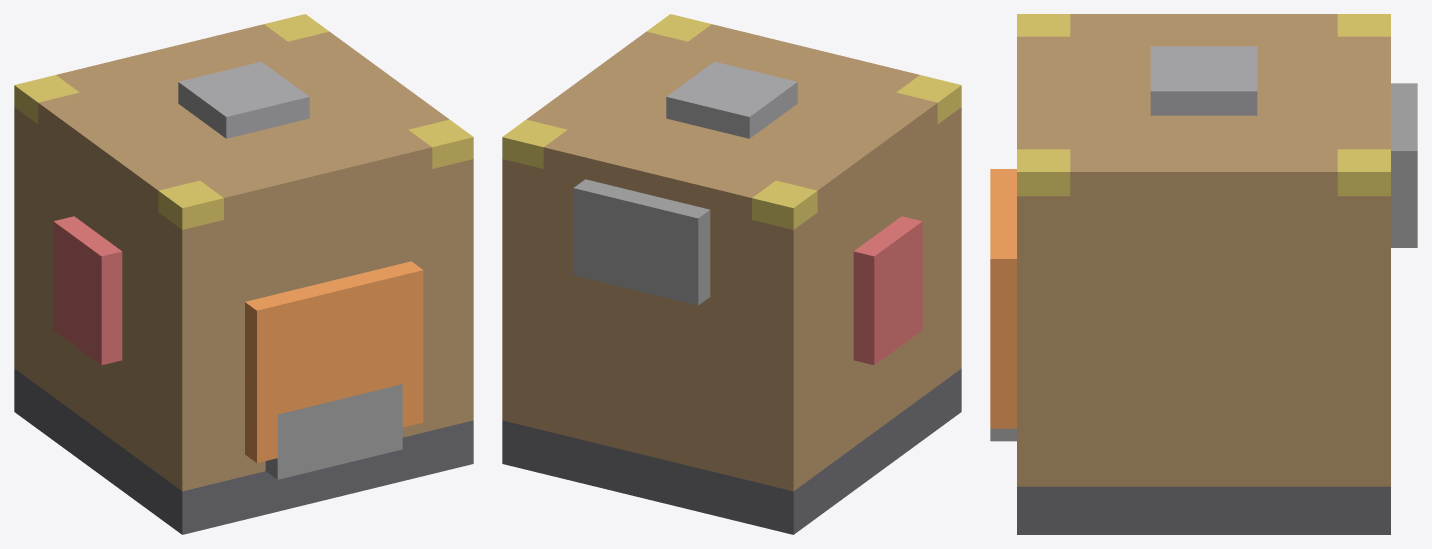
Rendered from furnace.glb.
The picture shows the model from 3 angles, left to right: view 1: azimuth 30°, elevation 25°; view 2: azimuth 150°, elevation 25°; view 3: azimuth 270°, elevation 25°; orthographic projection. The views are drawn at different scales.
Visible parts, largest first — view 1: VoxelModel; view 2: VoxelModel; view 3: VoxelModel.
Boxes of the visible parts, x1,y1,x2,y2 form: VoxelModel: [14, 14, 473, 534]; VoxelModel: [502, 14, 961, 534]; VoxelModel: [990, 14, 1417, 534].
Bounding box in the file's own units: 0.9375 × 1 × 1.
